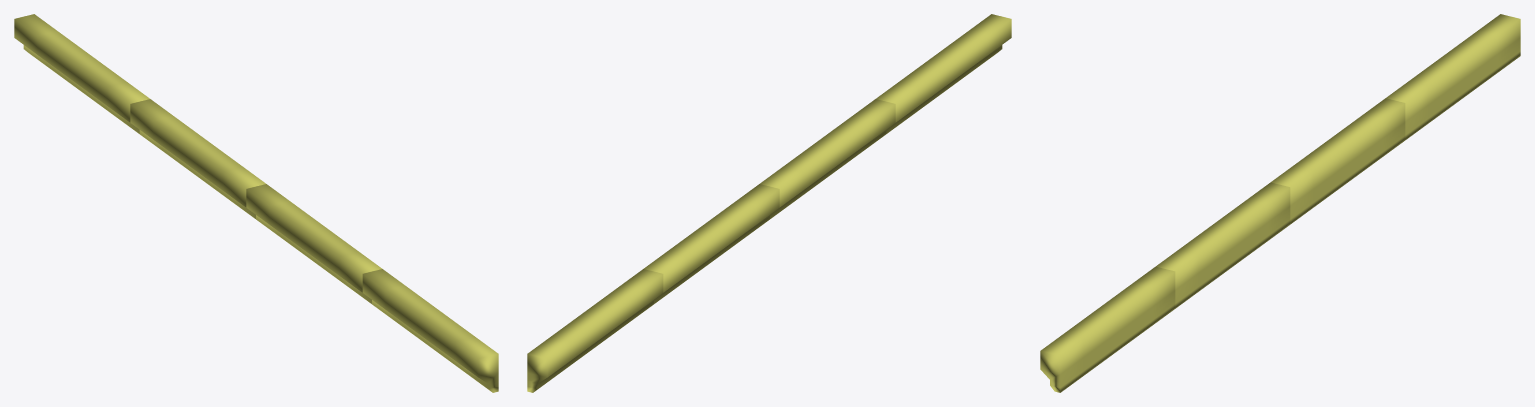
File: Wall_Orn_04_x4.fbx
3 renders of one model, left to right at view 1: azimuth 30°, elevation 25°; view 2: azimuth 150°, elevation 25°; view 3: azimuth 330°, elevation 25°, orthographic.
Visible parts, largest first — view 1: Wall_Orn_04_x4; view 2: Wall_Orn_04_x4; view 3: Wall_Orn_04_x4.
Boxes of the visible parts, left/top/right/bottom form: Wall_Orn_04_x4: left=14, top=14, right=498, bottom=392; Wall_Orn_04_x4: left=527, top=14, right=1011, bottom=392; Wall_Orn_04_x4: left=1040, top=14, right=1520, bottom=392.
Size of the model in its own units: 30 by 53.75 by 1200.
